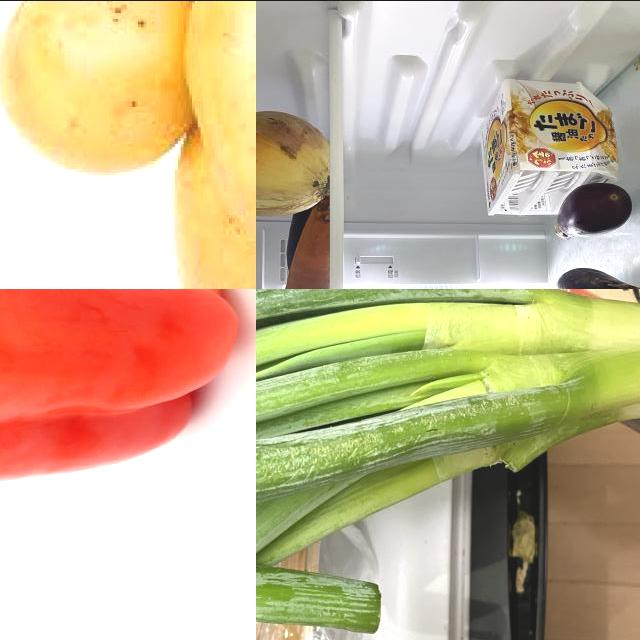bell_pepper: (1, 289, 247, 495)
carrot: (282, 193, 330, 289)
eggplant: (554, 178, 631, 239), (283, 201, 313, 267), (557, 271, 640, 289)
onion: (257, 289, 640, 640), (257, 110, 329, 218)
potato: (1, 1, 189, 175), (190, 1, 257, 265), (175, 126, 257, 289)
